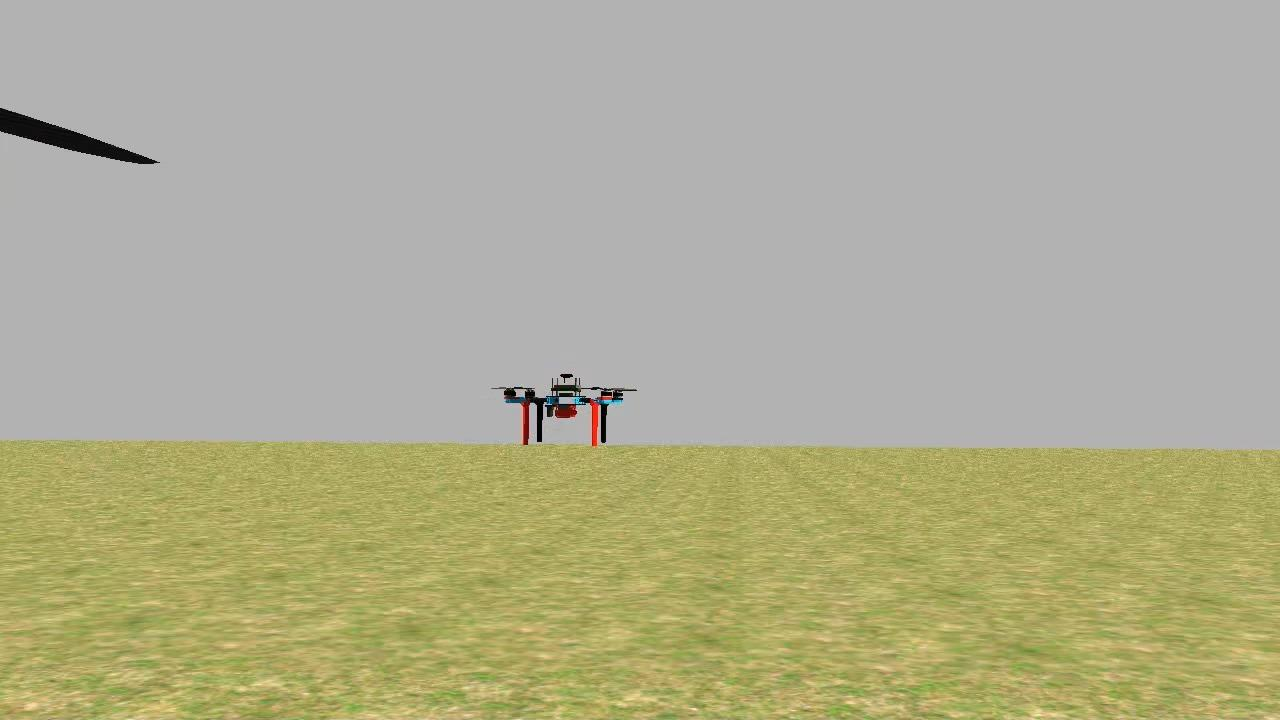UAV: (496, 367, 631, 451)
